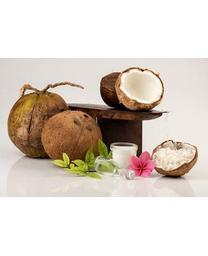coconut: (6, 88, 70, 159), (41, 110, 101, 165), (117, 66, 165, 111), (148, 139, 198, 177)
